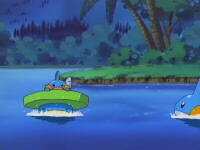mudkip: (171, 74, 200, 117), (43, 70, 72, 92)
